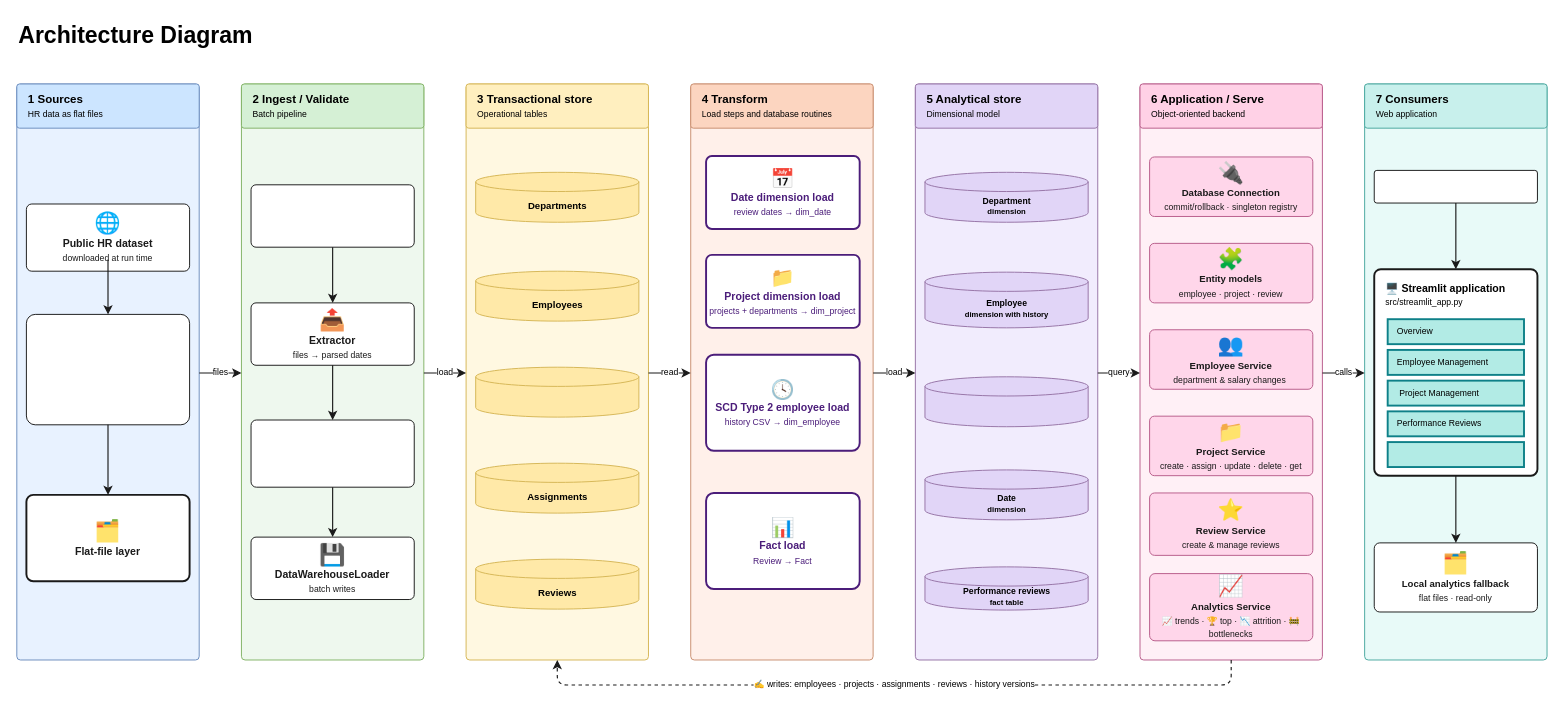
This 1564x709 diagram has some shape labels left out. The centre of each missing label's shape, as x and y in pixels:
Analytics Dashboard: the point at 1455,454
Project dimension: the point at 1006,401
Projects: the point at 557,391
▶️ Pipeline trigger one command: the point at 332,215
⚙️ Data Synthesizer KaggleHub · Faker · NumPy · pandas: the point at 107,369
🔍 Transformer ✅ SCD2 history checks: the point at 332,453
🧑‍💻 Browser user: the point at 1455,186
